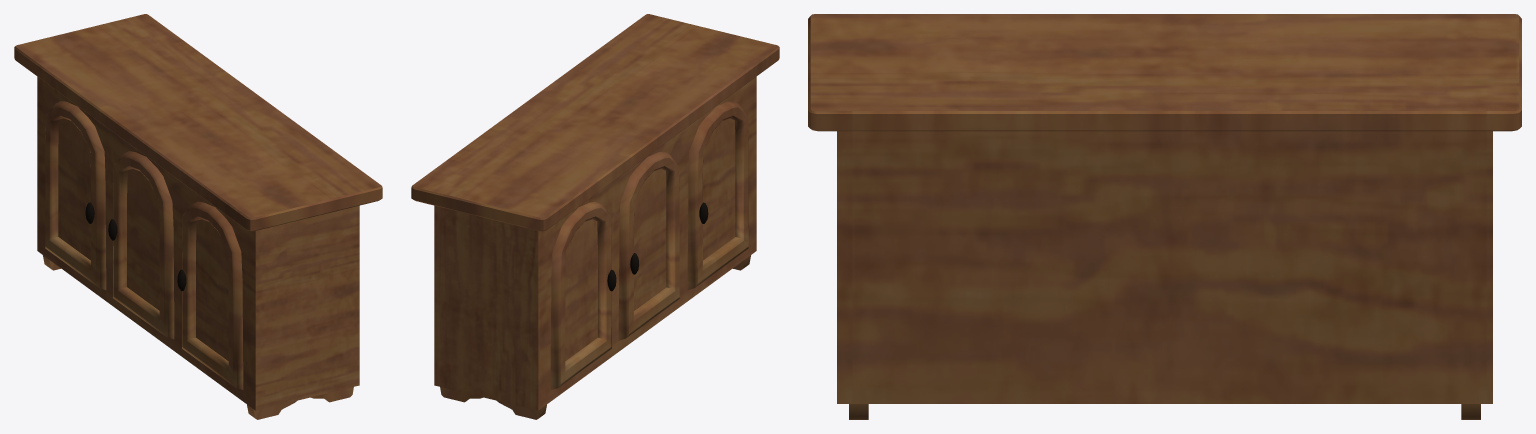
File: CI_078_079_cupboard.glb
3 renders of one model, left to right at view 1: azimuth 30°, elevation 25°; view 2: azimuth 150°, elevation 25°; view 3: azimuth 270°, elevation 25°, orthographic. The views are drawn at different scales.
Visible parts, largest first — view 1: cupboard, knob; view 2: cupboard, knob; view 3: cupboard.
Part boxes in pixels (left/top/right/bottom): cupboard: left=14, top=14, right=382, bottom=419; knob: left=85, top=202, right=186, bottom=291; cupboard: left=411, top=14, right=779, bottom=419; knob: left=607, top=202, right=708, bottom=291; cupboard: left=808, top=14, right=1521, bottom=419.
Bounding box in the file's own units: 0.7386 × 1.12 × 2.25.
Materials: 2 (1 with a texture image).
